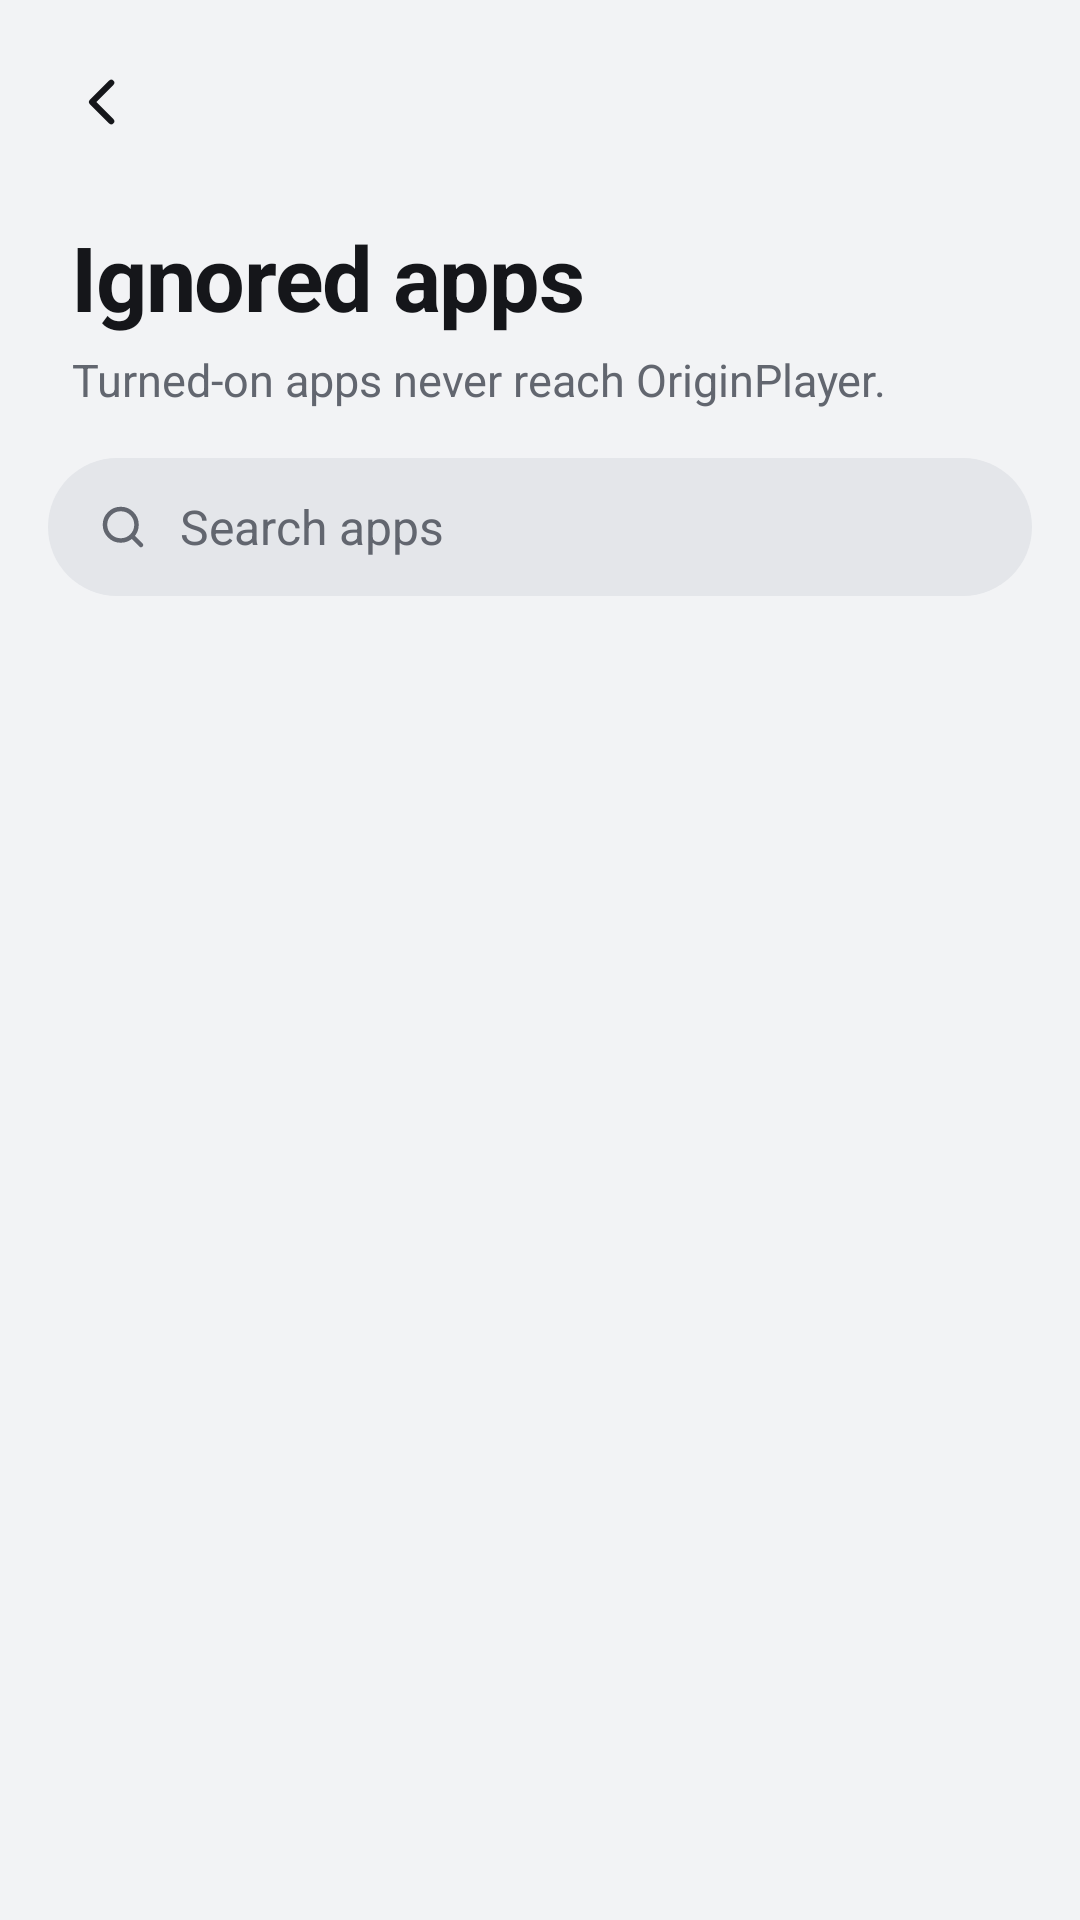

Point at icon controls on the screen. Image size 1080px x 1920px, points as (x,y).
Back: (102,102)
